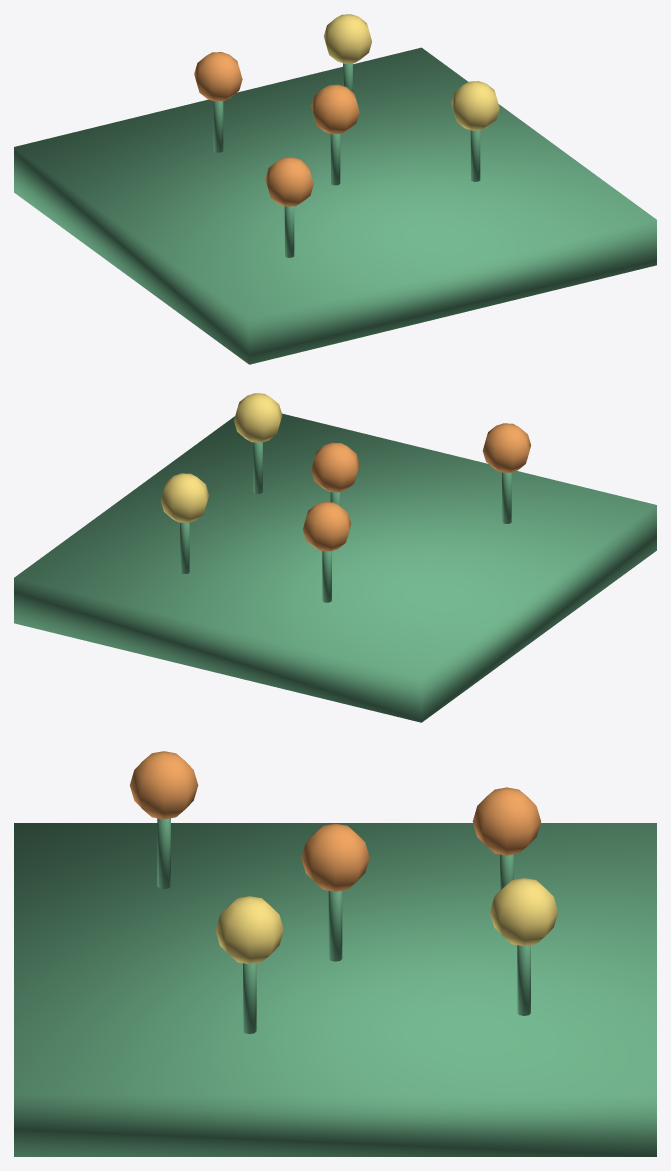
The model's file is flower_garden.glb.
3 renders of one model, top to bottom at view 1: azimuth 30°, elevation 25°; view 2: azimuth 150°, elevation 25°; view 3: azimuth 270°, elevation 25°, orthographic. The views are drawn at different scales.
Visible parts, largest first — view 1: soil_base, petal_0, petal_1, petal_4, petal_2, petal_3, stem_0, stem_1, stem_2, stem_4; view 2: soil_base, petal_0, petal_2, petal_3, petal_1, petal_4, stem_0, stem_1, stem_2, stem_3; view 3: soil_base, petal_2, petal_0, petal_1, petal_4, petal_3, stem_4, stem_3, stem_1, stem_0.
Boxes of the visible parts, x1=… form: soil_base: x1=14, y1=47, x2=656, y2=364; petal_0: x1=265, y1=157, x2=313, y2=206; petal_1: x1=451, y1=81, x2=499, y2=130; petal_4: x1=311, y1=84, x2=359, y2=134; petal_2: x1=194, y1=52, x2=242, y2=101; petal_3: x1=323, y1=14, x2=371, y2=63; stem_0: x1=284, y1=206, x2=294, y2=257; stem_1: x1=470, y1=130, x2=480, y2=181; stem_2: x1=213, y1=101, x2=223, y2=152; stem_4: x1=330, y1=134, x2=340, y2=185; soil_base: x1=14, y1=413, x2=656, y2=722; petal_0: x1=482, y1=423, x2=530, y2=472; petal_2: x1=303, y1=502, x2=351, y2=551; petal_3: x1=160, y1=473, x2=208, y2=522; petal_1: x1=234, y1=393, x2=282, y2=442; petal_4: x1=311, y1=442, x2=359, y2=492; stem_0: x1=502, y1=472, x2=511, y2=523; stem_1: x1=253, y1=442, x2=262, y2=493; stem_2: x1=322, y1=551, x2=331, y2=602; stem_3: x1=180, y1=522, x2=189, y2=573; soil_base: x1=14, y1=823, x2=656, y2=1156; petal_2: x1=472, y1=787, x2=541, y2=855; petal_0: x1=129, y1=751, x2=198, y2=819; petal_1: x1=215, y1=896, x2=283, y2=964; petal_4: x1=301, y1=823, x2=369, y2=891; petal_3: x1=490, y1=878, x2=558, y2=946; stem_4: x1=328, y1=891, x2=342, y2=961; stem_3: x1=517, y1=945, x2=530, y2=1015; stem_1: x1=243, y1=963, x2=256, y2=1033; stem_0: x1=157, y1=818, x2=170, y2=888.
Bounding box in the file's own units: 0.75 × 0.25 × 0.75.
